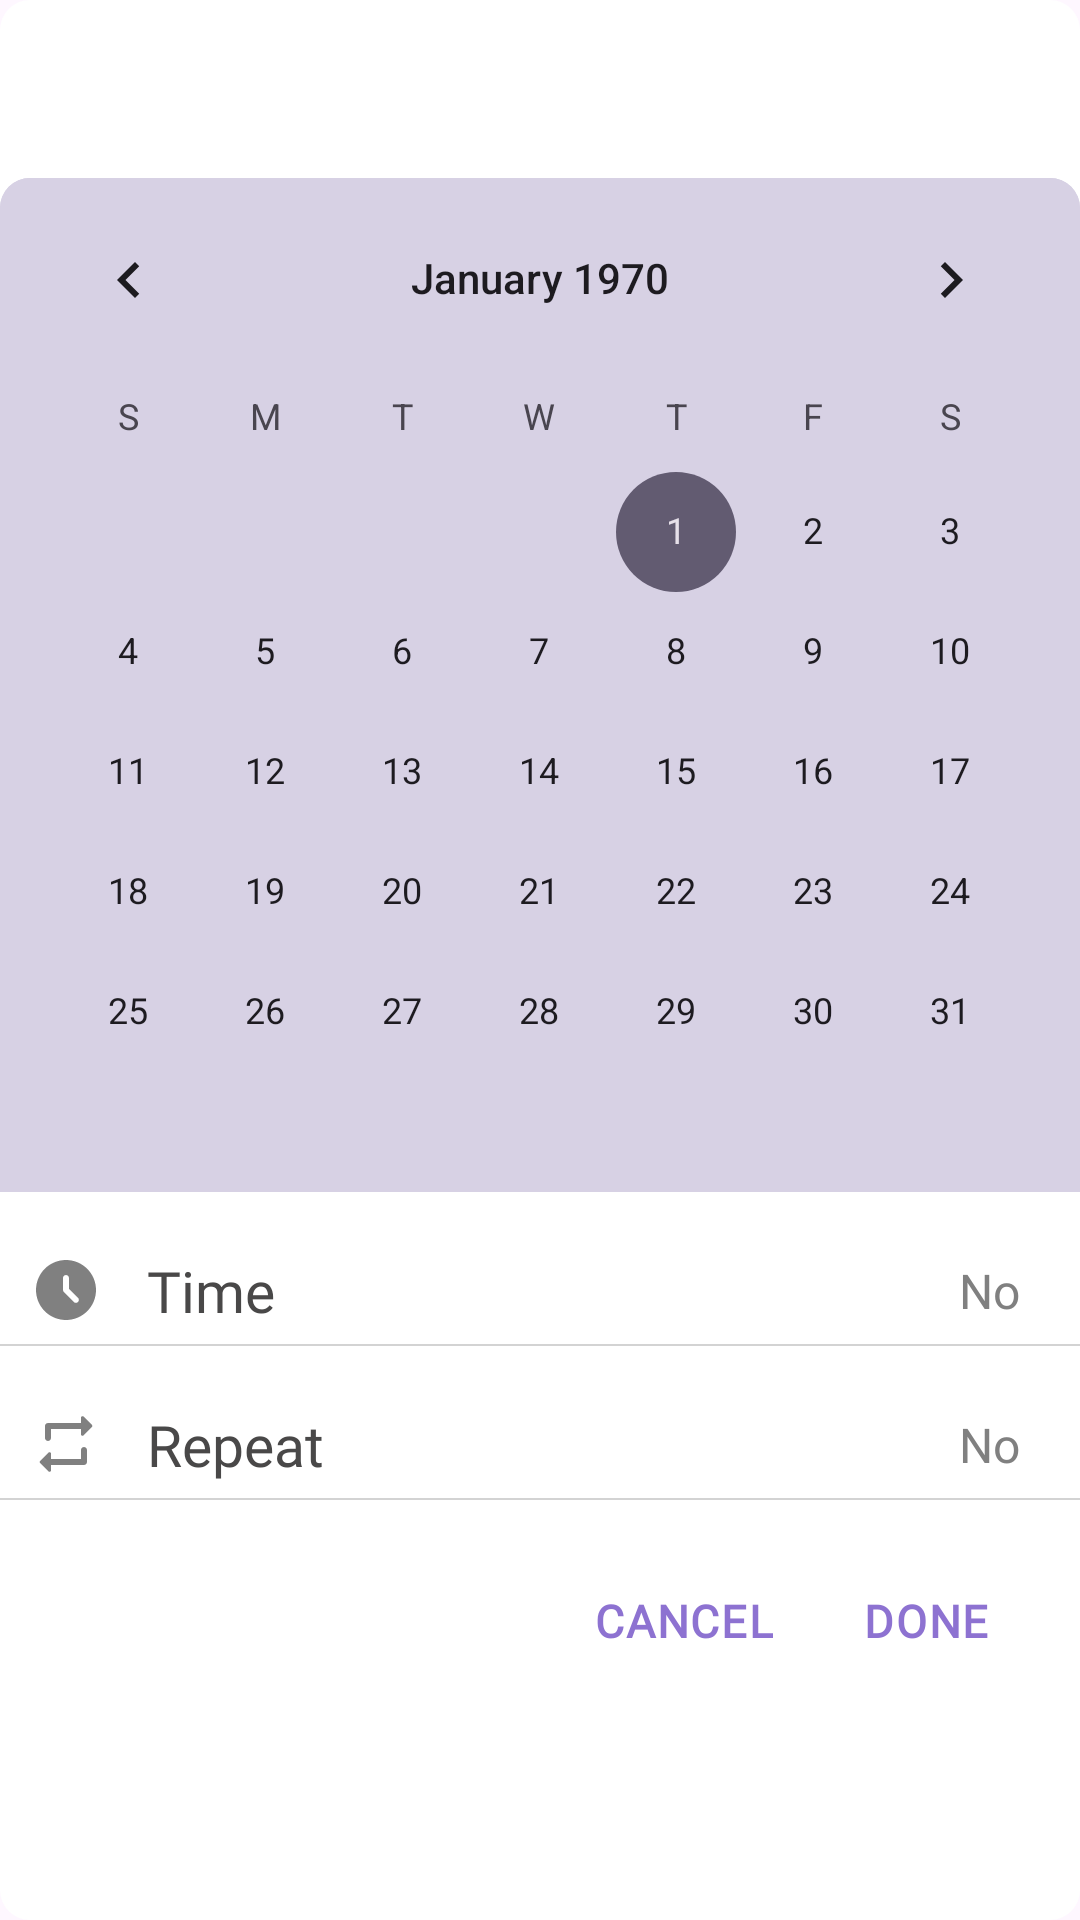

Where icons sit on this 1080×1920 app screen, as bbox=(x1, y1, x2, y2):
clock: bbox=(36, 1260, 96, 1320)
